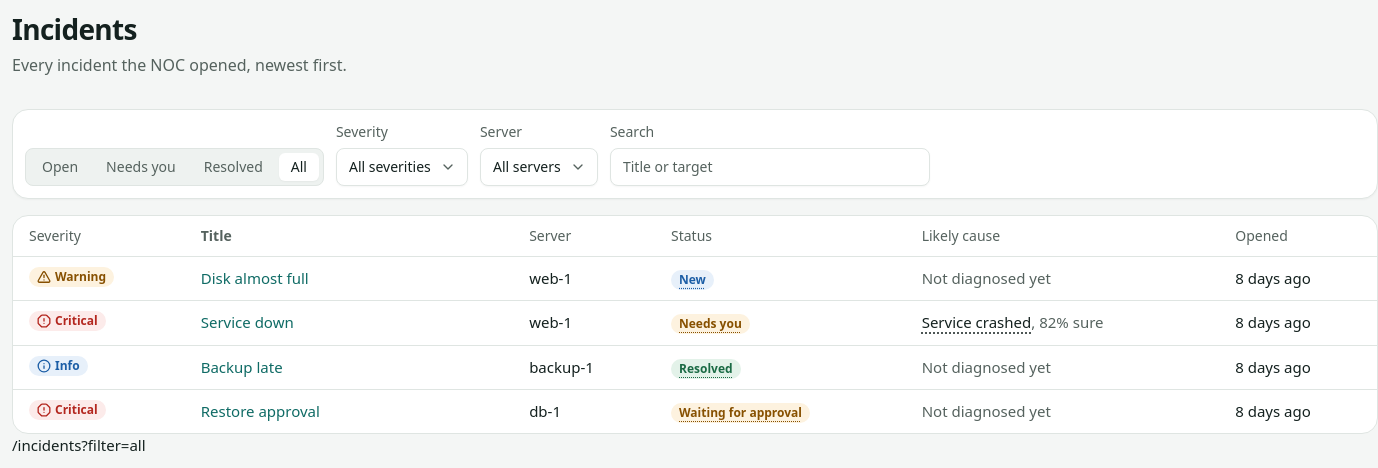
Test case: IncidentsPage › filters the rows by the search text on title or target and records it in the URL
Expected: the link "Backup late" is shown, [201,356,283,376]
Type "db-1" into the search field labelled "Search" at (770, 167), box [610,148,930,186]
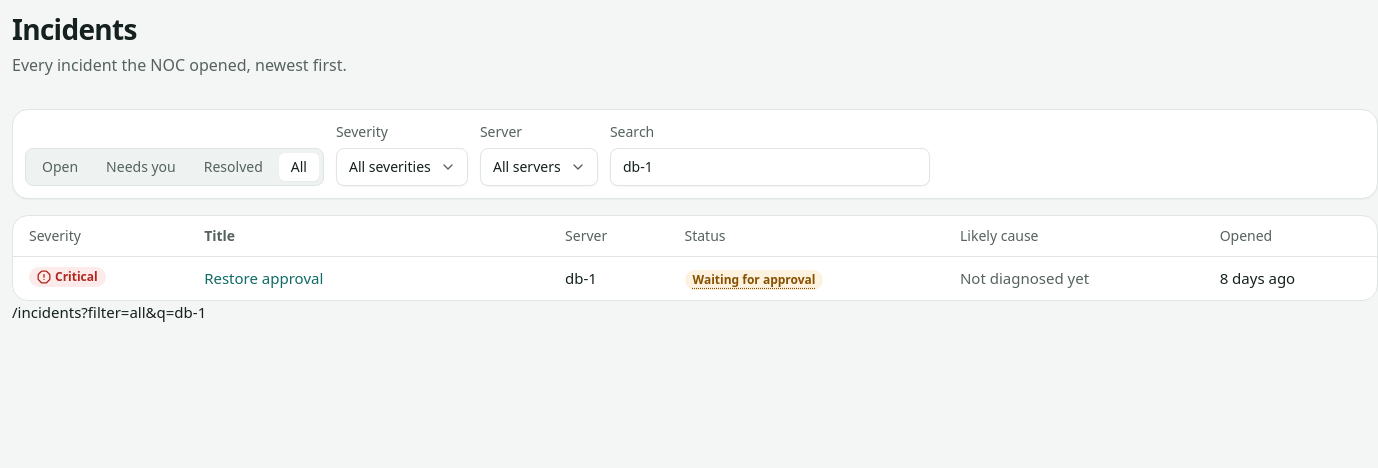
Result: the text with test id "location" reads "/incidents?filter=all&q=db-1" at [12,302,206,322]
